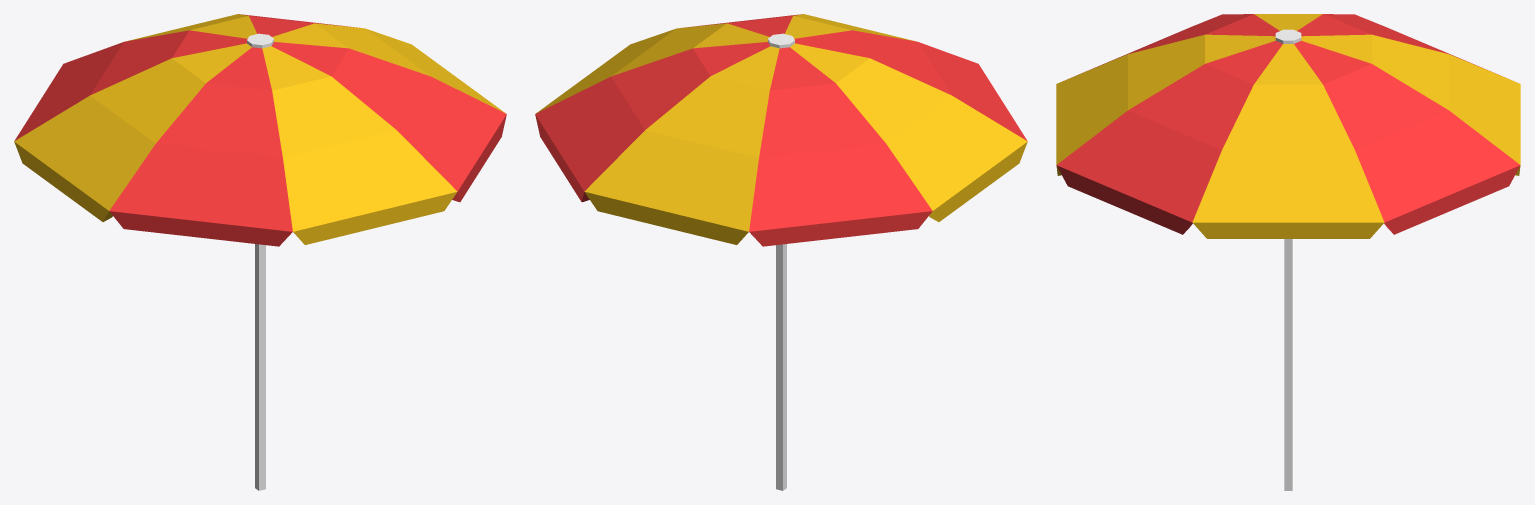
The model's file is umbrella.fbx.
3 renders of one model, left to right at view 1: azimuth 30°, elevation 25°; view 2: azimuth 150°, elevation 25°; view 3: azimuth 270°, elevation 25°, orthographic.
Visible parts, largest first — view 1: Plane; view 2: Plane; view 3: Plane.
Part boxes in pixels (box(x1,y1,x2,y2)): Plane: box(14, 14, 506, 490); Plane: box(535, 14, 1027, 490); Plane: box(1056, 14, 1520, 490).
Size of the model in its own units: 185 by 199 by 185.
